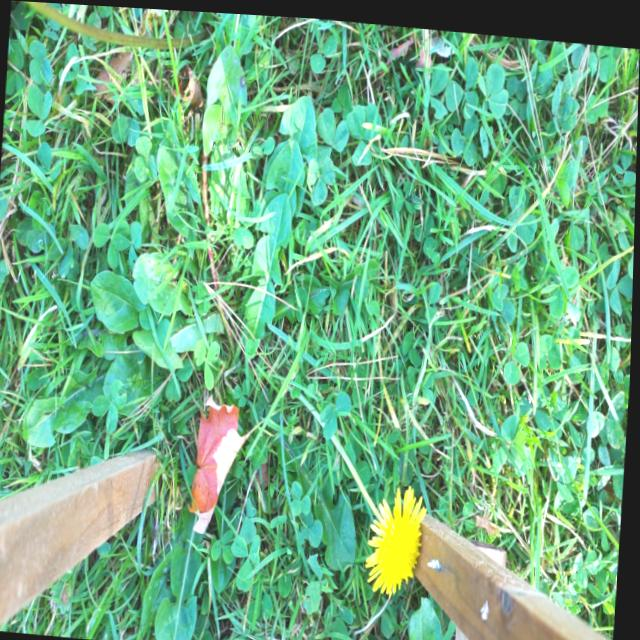base: (286, 373, 315, 407)
flower: (363, 478, 428, 584)
